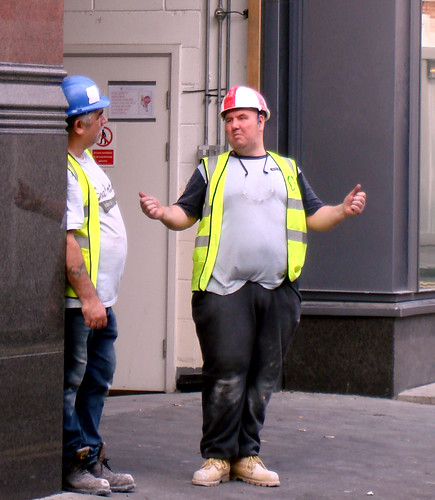person hardhat: (60, 74, 111, 149), (218, 86, 271, 152)
